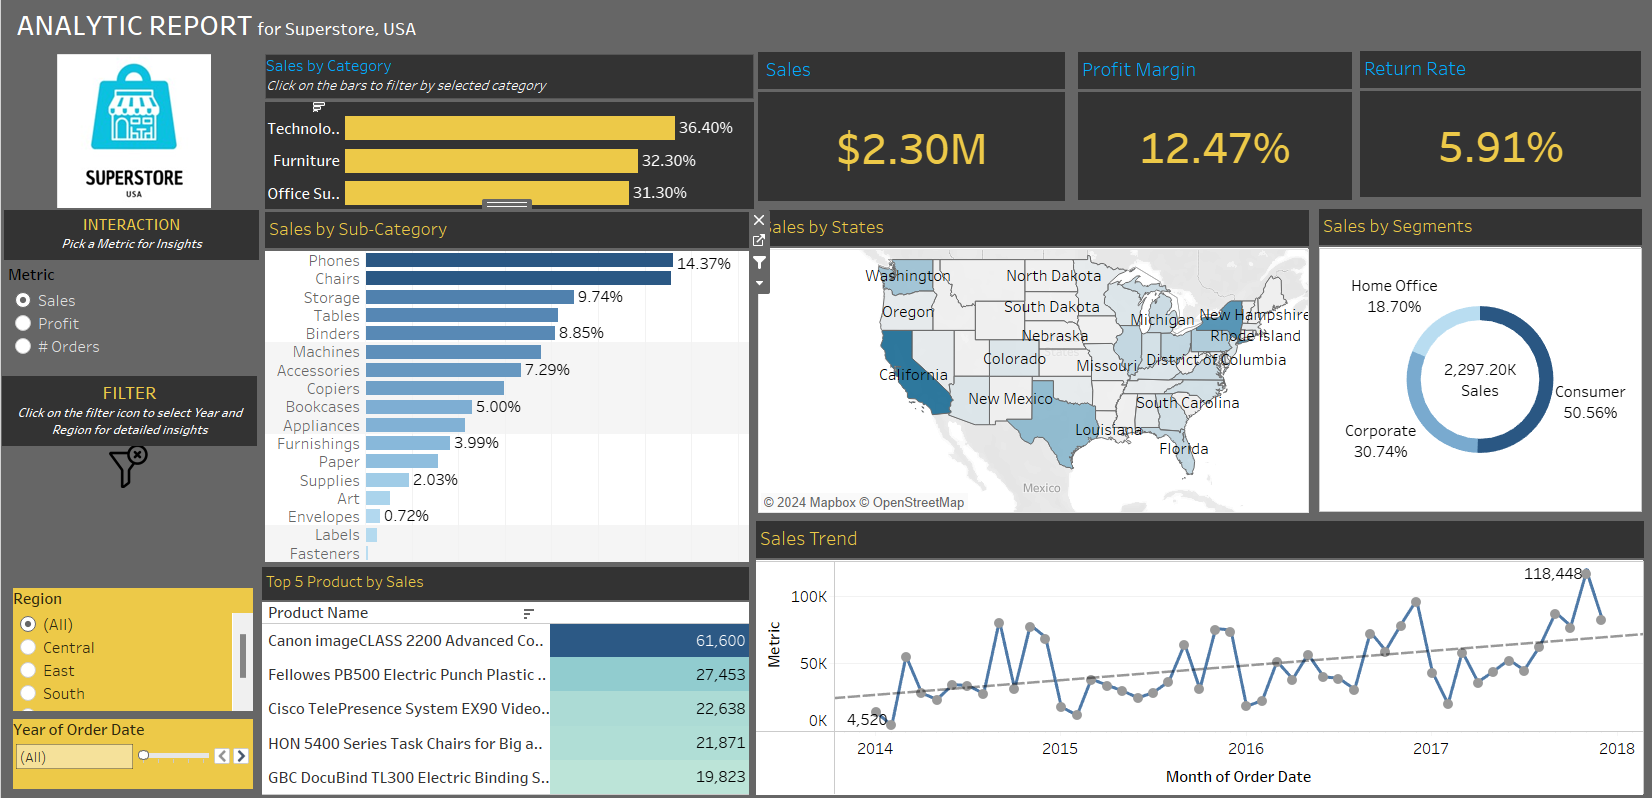

Layout of this report page (visuals, bound fields, positions):
{"tool":"tableau","page":{"name":"ANALYTIC REPORT for Superstore, USA","canvas":[1000,1000],"units":"permille","ordinal":0},"visuals":[{"type":"title","box":[4.8,10,990.3,40]},{"type":"worksheet","title":"Blank","mark":"Automatic","box":[4.8,49.9,149.4,679.1]},{"type":"worksheet","title":"Metric","mark":"Automatic","box":[154.2,49.9,840.9,940.1]},{"type":"worksheet","title":"Return Rate ","mark":"Automatic","box":[819.9,63.4,169.7,183]},{"type":"worksheet","title":"Total Sales","mark":"Automatic","box":[457.1,65.2,185.3,186.6]},{"type":"worksheet","title":"Profit Margin","mark":"Automatic","box":[650.2,65.2,165.4,184.8]},{"type":"image","param":"Image/Picture1.jpg","box":[3.4,67,153.9,192]},{"type":"worksheet","title":"Sales wise Category","mark":"Automatic","rows":["Category"],"cols":["Calculation_846395270527467520"],"box":[159.1,67,295.1,193.8]},{"type":"worksheet","title":"Sales Wise Segment","mark":"Pie","rows":["Calculation_1182194916321263616","Calculation_1182194916321263616"],"box":[795.7,260.9,194.8,378.6]},{"type":"worksheet","title":"Interaction","mark":"Automatic","box":[1.7,262.7,153.9,77.9]},{"type":"worksheet","title":"State Wise Sales","mark":"Automatic","box":[457.1,262.7,332.5,378.6]},{"type":"worksheet","title":"Sub-Category wise sales","mark":"Automatic","rows":["Sub-Category"],"cols":["Calculation_846395270527467520"],"box":[159.1,264.5,292.6,436.6]},{"type":"parameter","param":"[Parameters].[Parameter 1]","box":[4.2,329.7,150.6,144.9]},{"type":"worksheet","title":"Filter","mark":"Automatic","box":[0.8,469.2,154,123.2]},{"type":"dashboard-object","box":[63.6,552.5,26.8,58]},{"type":"worksheet","title":"Sales Trend","mark":"Automatic","rows":["Sales","Sales"],"cols":["Order Date"],"box":[455.4,650.4,535.9,342.4]},{"type":"worksheet","title":"Top 5 Product by Sales","mark":"Square","rows":["Product Name"],"box":[157.4,708.3,294.3,284.4]},{"type":"filter","title":"Metric","param":"[federated.1umhud10x35yms16zc2h81xahhkb].[none:Region:nk]","box":[4.8,729.1,149.4,163.6]},{"type":"worksheet","title":"Order Trend","mark":"Circle","rows":["Orders_D7BD8DD494F94C0B855AC81E9AB1C6DD","Orders_D7BD8DD494F94C0B855AC81E9AB1C6DD"],"cols":["Order Date"],"box":[428.3,730.9,560.2,263.2]},{"type":"filter","title":"Metric","param":"[federated.1umhud10x35yms16zc2h81xahhkb].[yr:Order Date:ok]","box":[4.8,892.6,149.4,97.4]}]}

Visuals, with their boxes on the dashboard's canvas, which has no fixed pixel size, in thousandths of its width and height (x1, y1, x2, y2). These are canvas units, not pixel positions in the 1652x798 screenshot, which may show the page scaled, cropped or inside an application window:
title: x1=5 y1=10 x2=995 y2=50
"Blank" worksheet: x1=5 y1=50 x2=154 y2=729
"Metric" worksheet: x1=154 y1=50 x2=995 y2=990
"Return Rate " worksheet: x1=820 y1=63 x2=990 y2=246
"Total Sales" worksheet: x1=457 y1=65 x2=642 y2=252
"Profit Margin" worksheet: x1=650 y1=65 x2=816 y2=250
image: x1=3 y1=67 x2=157 y2=259
"Sales wise Category" worksheet: x1=159 y1=67 x2=454 y2=261
"Sales Wise Segment" worksheet (Pie marks): x1=796 y1=261 x2=990 y2=640
"Interaction" worksheet: x1=2 y1=263 x2=156 y2=341
"State Wise Sales" worksheet: x1=457 y1=263 x2=790 y2=641
"Sub-Category wise sales" worksheet: x1=159 y1=264 x2=452 y2=701
parameter: x1=4 y1=330 x2=155 y2=475
"Filter" worksheet: x1=1 y1=469 x2=155 y2=592
dashboard-object: x1=64 y1=552 x2=90 y2=610
"Sales Trend" worksheet: x1=455 y1=650 x2=991 y2=993
"Top 5 Product by Sales" worksheet (Square marks): x1=157 y1=708 x2=452 y2=993
"Metric" filter: x1=5 y1=729 x2=154 y2=893
"Order Trend" worksheet (Circle marks): x1=428 y1=731 x2=988 y2=994
"Metric" filter: x1=5 y1=893 x2=154 y2=990
